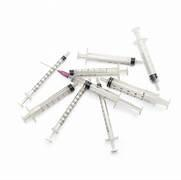Syringe: (47, 81, 90, 141), (21, 52, 69, 105), (101, 77, 168, 106), (22, 84, 75, 120), (132, 27, 158, 89), (89, 83, 141, 113), (99, 95, 117, 152), (77, 49, 141, 65), (68, 65, 127, 77)
